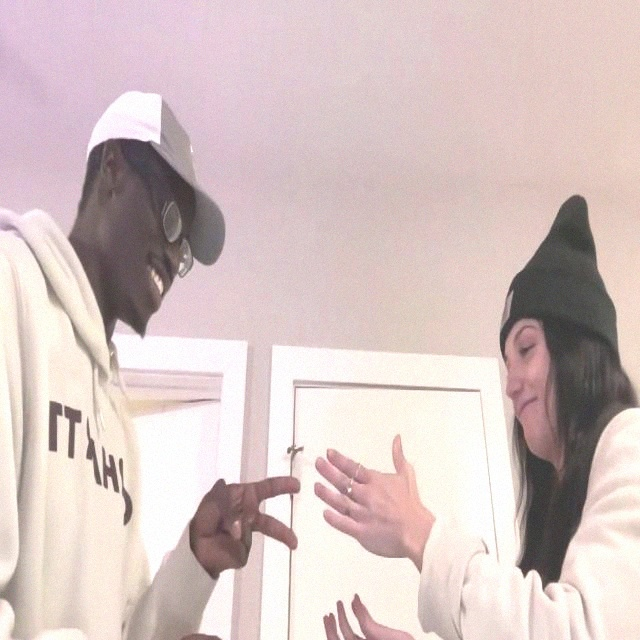Paper: (312, 432, 428, 566)
Scissors: (194, 475, 301, 582)
